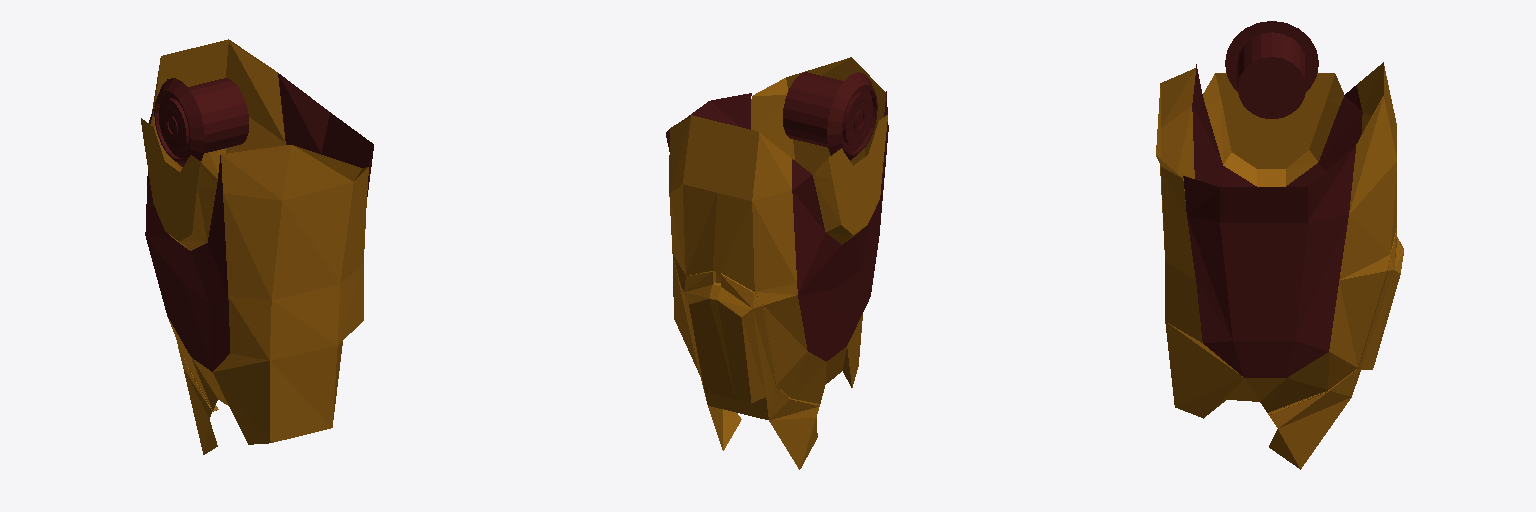
Rendered from LeftLeg.obj.
3 renders of one model, left to right at view 1: azimuth 30°, elevation 25°; view 2: azimuth 150°, elevation 25°; view 3: azimuth 270°, elevation 25°, orthographic.
Visible parts, largest first — view 1: Mesh.001_Mesh.029_polySurface632_polySurface636_polySurface666, Mesh.002_Mesh.030_polySurface632_polySurface638, Mesh.003_Mesh.011_polySurface632_polySurface640, Mesh.004_Mesh.031_polySurface632_polySurface637, Mesh_Mesh.034_polySurface632_polySurface665_polySurface636; view 2: Mesh.001_Mesh.029_polySurface632_polySurface636_polySurface666, Mesh.002_Mesh.030_polySurface632_polySurface638, Mesh.003_Mesh.011_polySurface632_polySurface640, Mesh.004_Mesh.031_polySurface632_polySurface637, Mesh_Mesh.034_polySurface632_polySurface665_polySurface636; view 3: Mesh.001_Mesh.029_polySurface632_polySurface636_polySurface666, Mesh_Mesh.034_polySurface632_polySurface665_polySurface636, Mesh.004_Mesh.031_polySurface632_polySurface637, Mesh.003_Mesh.011_polySurface632_polySurface640, Mesh.002_Mesh.030_polySurface632_polySurface638.
Part boxes in pixels (left/top/right/bottom): Mesh.001_Mesh.029_polySurface632_polySurface636_polySurface666: left=150, top=39, right=368, bottom=454; Mesh.002_Mesh.030_polySurface632_polySurface638: left=145, top=106, right=229, bottom=371; Mesh.003_Mesh.011_polySurface632_polySurface640: left=154, top=78, right=248, bottom=166; Mesh.004_Mesh.031_polySurface632_polySurface637: left=141, top=118, right=217, bottom=250; Mesh_Mesh.034_polySurface632_polySurface665_polySurface636: left=278, top=73, right=373, bottom=196; Mesh.001_Mesh.029_polySurface632_polySurface636_polySurface666: left=669, top=57, right=885, bottom=469; Mesh.002_Mesh.030_polySurface632_polySurface638: left=792, top=91, right=888, bottom=361; Mesh.003_Mesh.011_polySurface632_polySurface640: left=783, top=72, right=877, bottom=160; Mesh.004_Mesh.031_polySurface632_polySurface637: left=813, top=115, right=887, bottom=244; Mesh_Mesh.034_polySurface632_polySurface665_polySurface636: left=666, top=93, right=751, bottom=151; Mesh.001_Mesh.029_polySurface632_polySurface636_polySurface666: left=1156, top=62, right=1403, bottom=469; Mesh_Mesh.034_polySurface632_polySurface665_polySurface636: left=1183, top=145, right=1355, bottom=377; Mesh.004_Mesh.031_polySurface632_polySurface637: left=1203, top=73, right=1343, bottom=186; Mesh.003_Mesh.011_polySurface632_polySurface640: left=1225, top=21, right=1318, bottom=118; Mesh.002_Mesh.030_polySurface632_polySurface638: left=1192, top=64, right=1362, bottom=186.
Size of the model in its own units: 8.78 by 18.68 by 10.68.